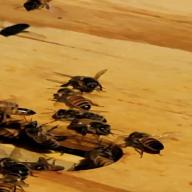Bee: (50, 84, 112, 114), (0, 98, 35, 122), (84, 155, 122, 174), (0, 178, 40, 192)
